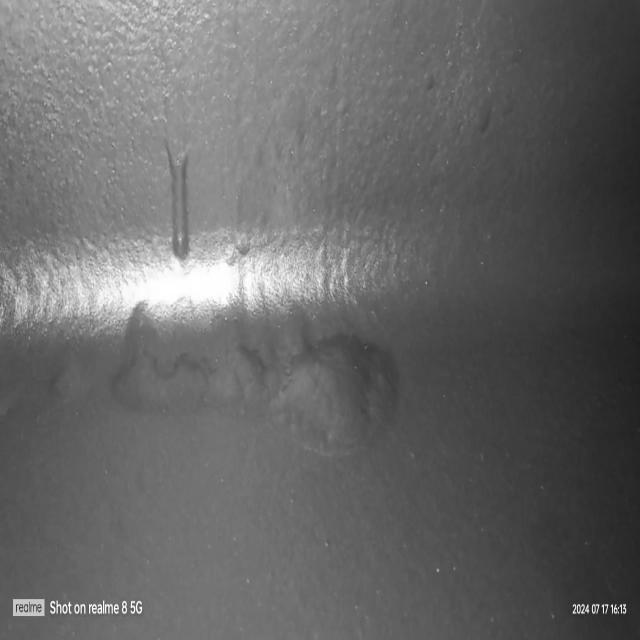paint drips: (148, 93, 204, 269)
